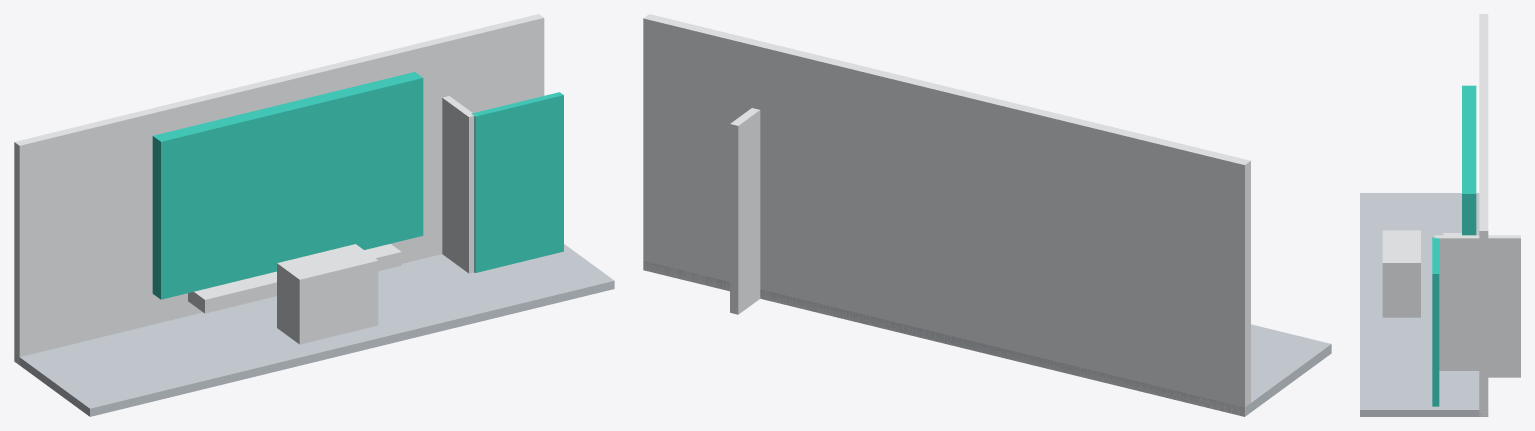
3 views of the same model, side by side, from view 1: azimuth 30°, elevation 25°; view 2: azimuth 150°, elevation 25°; view 3: azimuth 270°, elevation 25° (orthographic). The views are drawn at different scales.
Parts seen in each view (by area): view 1: Exhibition Booth Concept; view 2: Exhibition Booth Concept; view 3: Exhibition Booth Concept.
Boxes of the visible parts, box(x1,y1,x2,y2) form: Exhibition Booth Concept: box(14, 14, 614, 416); Exhibition Booth Concept: box(643, 14, 1331, 416); Exhibition Booth Concept: box(1360, 14, 1520, 416).
Bounding box in the file's own units: 8 × 3.2 × 2.5.
